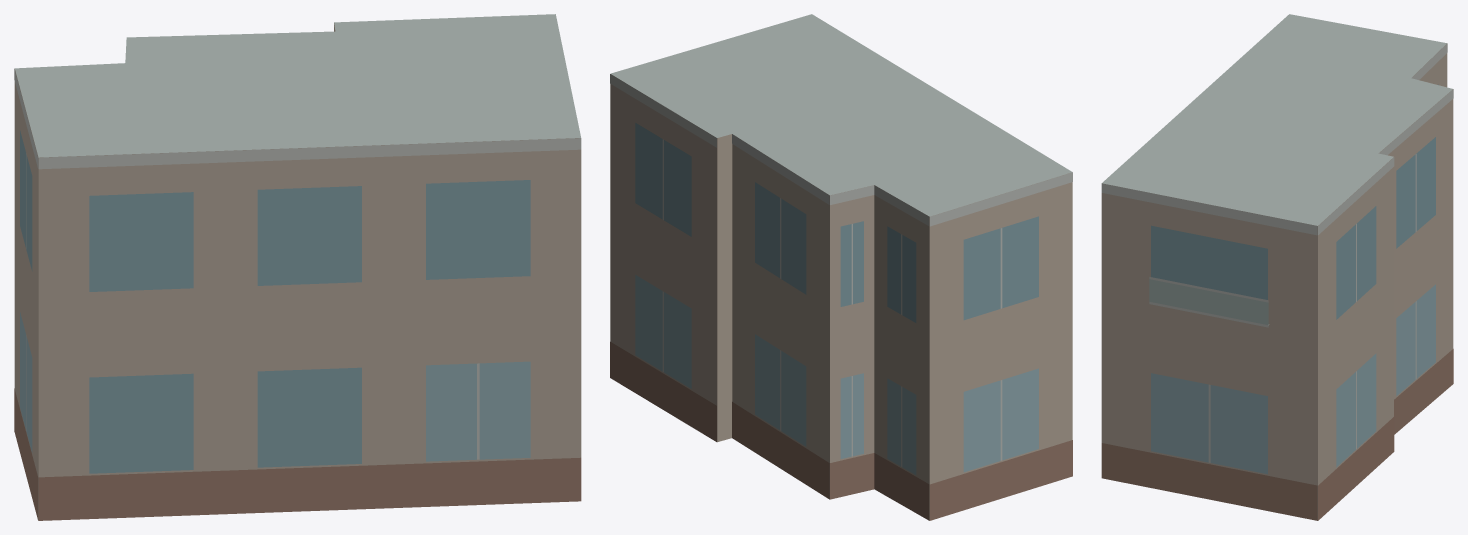
The model's file is survey-upis-33040862.glb.
The picture shows the model from 3 angles, left to right: view 1: azimuth 30°, elevation 25°; view 2: azimuth 150°, elevation 25°; view 3: azimuth 270°, elevation 25°; orthographic projection. The views are drawn at different scales.
Visible parts, largest first — view 1: survey-upis-33040862.tmp; view 2: survey-upis-33040862.tmp; view 3: survey-upis-33040862.tmp.
Boxes of the visible parts, <box> form: survey-upis-33040862.tmp: <box>14,14,581,520</box>; survey-upis-33040862.tmp: <box>610,14,1072,520</box>; survey-upis-33040862.tmp: <box>1101,14,1453,520</box>.
Bounding box in the file's own units: 11.57 × 7.5 × 8.12.
